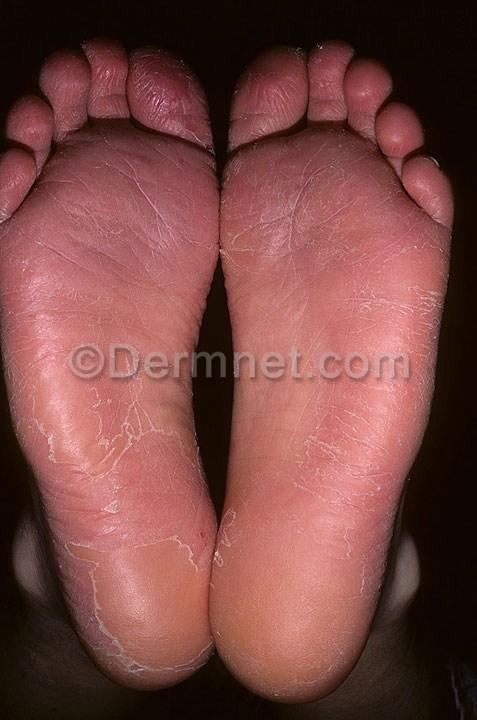Eczema: (329, 235, 451, 306), (108, 312, 187, 414), (117, 138, 197, 237), (36, 414, 123, 494), (26, 190, 119, 264), (11, 274, 104, 340), (107, 234, 176, 319), (268, 172, 362, 233), (28, 341, 103, 415), (288, 312, 361, 388), (253, 236, 324, 306), (127, 417, 188, 497), (282, 391, 355, 456), (360, 360, 423, 429), (357, 164, 425, 225), (43, 499, 122, 548), (352, 434, 409, 501), (237, 82, 301, 140), (58, 115, 112, 180), (50, 548, 90, 627), (223, 166, 270, 232), (348, 494, 396, 555), (305, 122, 352, 182), (183, 154, 223, 224), (242, 134, 318, 170), (317, 454, 359, 519), (215, 239, 258, 300), (243, 302, 292, 353), (130, 100, 181, 148), (134, 62, 186, 108), (340, 121, 382, 176), (174, 231, 212, 291), (127, 494, 176, 540), (282, 464, 322, 520), (274, 47, 320, 94), (81, 624, 121, 677), (89, 45, 132, 94), (295, 68, 344, 110), (238, 350, 283, 394), (412, 174, 446, 231), (92, 92, 129, 142), (344, 66, 378, 120), (0, 348, 27, 415), (408, 301, 438, 359), (182, 93, 211, 150), (361, 307, 403, 346), (0, 162, 30, 216), (184, 484, 216, 534), (381, 106, 418, 149), (365, 200, 401, 244), (50, 67, 85, 112), (315, 46, 357, 82), (232, 662, 278, 694), (0, 232, 33, 276), (173, 528, 215, 562), (216, 502, 247, 546), (6, 414, 38, 456), (338, 602, 374, 639), (22, 113, 51, 156), (0, 280, 20, 338), (398, 420, 427, 455), (252, 62, 285, 92), (321, 99, 351, 130), (328, 648, 358, 676), (131, 660, 158, 691), (420, 360, 440, 400), (365, 568, 379, 616), (286, 684, 320, 702), (169, 666, 191, 687), (187, 646, 203, 664), (313, 574, 314, 575)
